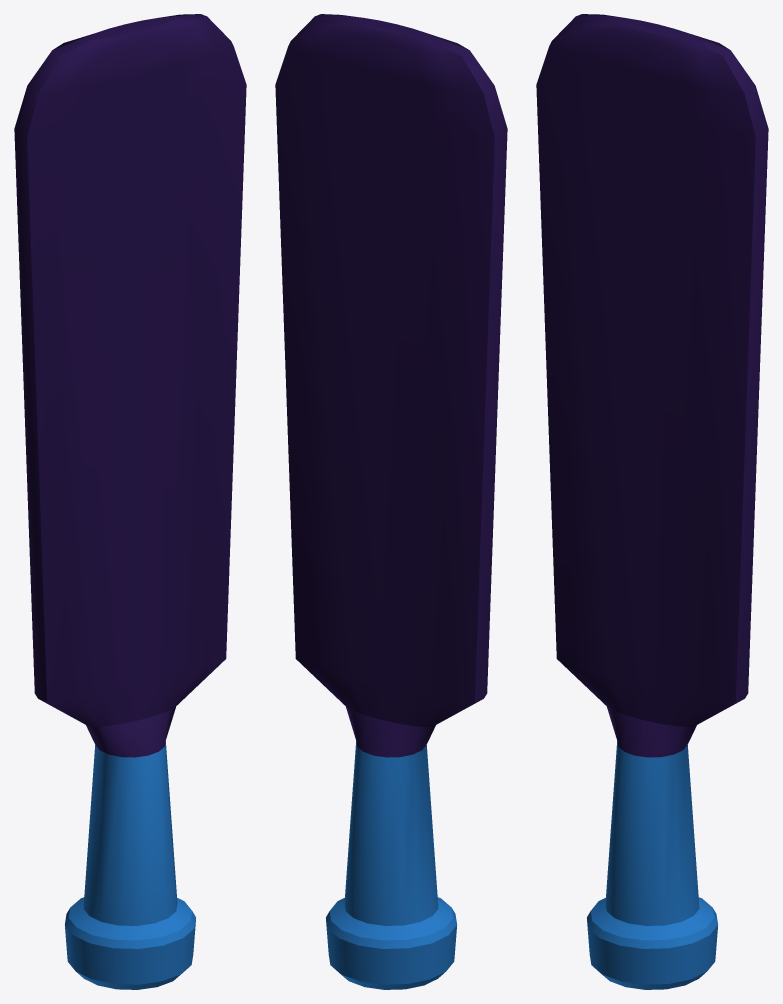
File: Curling bat.FBX
The picture shows the model from 3 angles, left to right: view 1: azimuth 30°, elevation 25°; view 2: azimuth 150°, elevation 25°; view 3: azimuth 330°, elevation 25°; orthographic projection.
Visible parts, largest first — view 1: Curling bat; view 2: Curling bat; view 3: Curling bat.
Boxes of the visible parts, x1=… form: Curling bat: x1=14, y1=14, x2=246, y2=989; Curling bat: x1=275, y1=14, x2=507, y2=989; Curling bat: x1=536, y1=14, x2=768, y2=989.
Bounding box in the file's own units: 267 × 135 × 1064.
